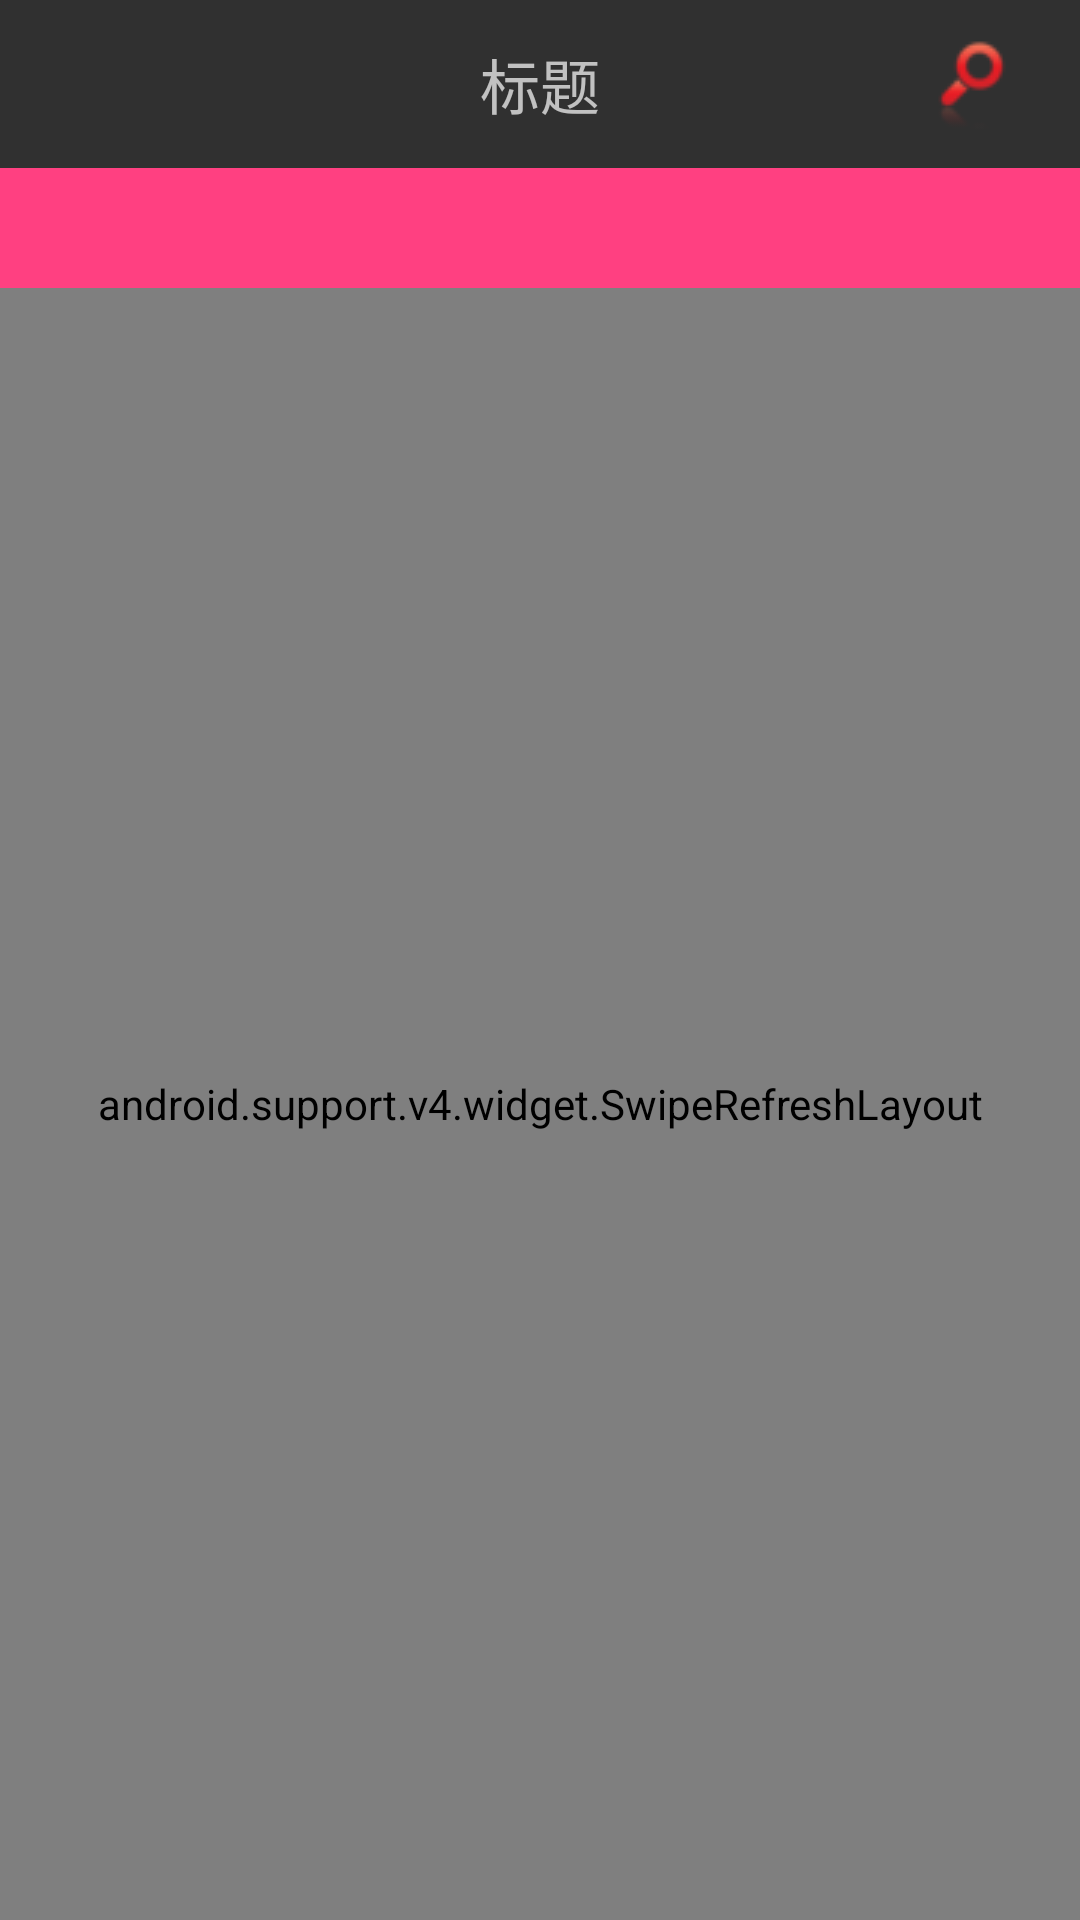

Where to tap for icons on this 1080px×1920px app screen, as point (x, y):
search: point (972, 78)
